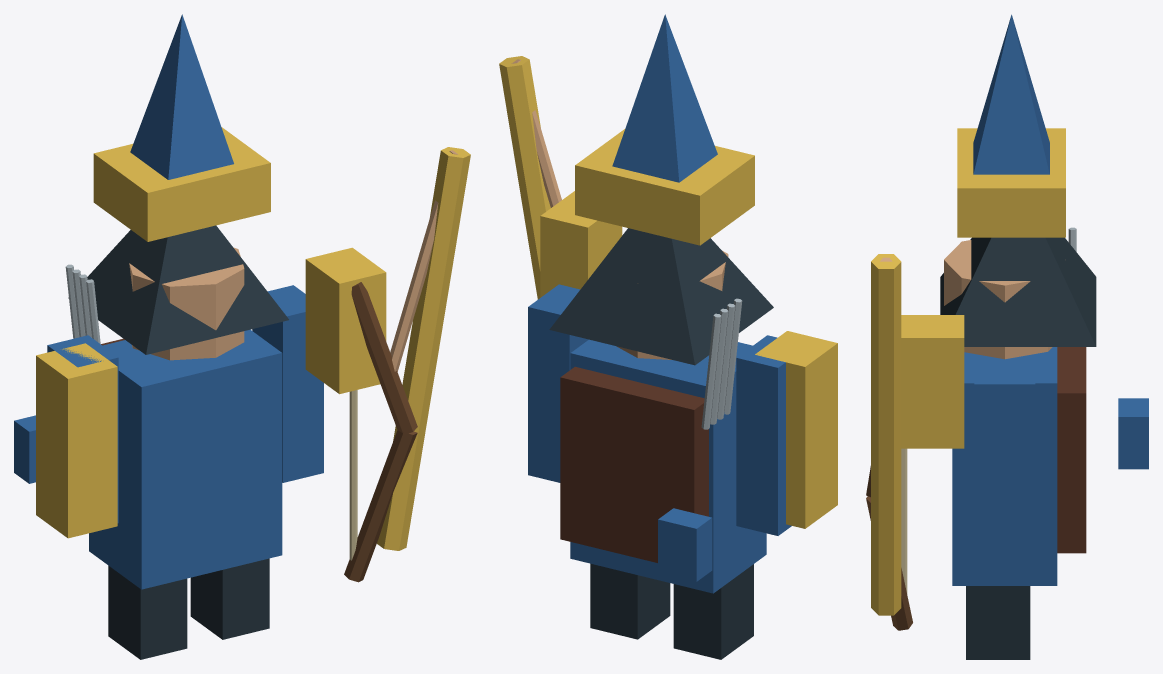
File: archer.obj
3 renders of one model, left to right at view 1: azimuth 30°, elevation 25°; view 2: azimuth 150°, elevation 25°; view 3: azimuth 270°, elevation 25°, orthographic.
Visible parts, largest first — view 1: ranged; view 2: ranged; view 3: ranged.
Part boxes in pixels (box(x1,y1,x2,y2)): ranged: box(14, 14, 470, 659); ranged: box(499, 14, 837, 659); ranged: box(866, 14, 1148, 659).
Size of the model in its own units: 1.24 by 2 by 0.8346.
